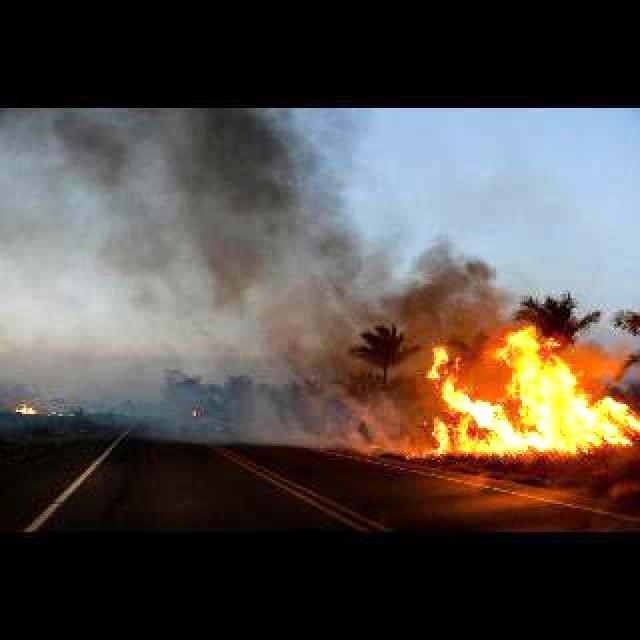Fire: (418, 315, 632, 461)
Smoke: (76, 111, 442, 444)
